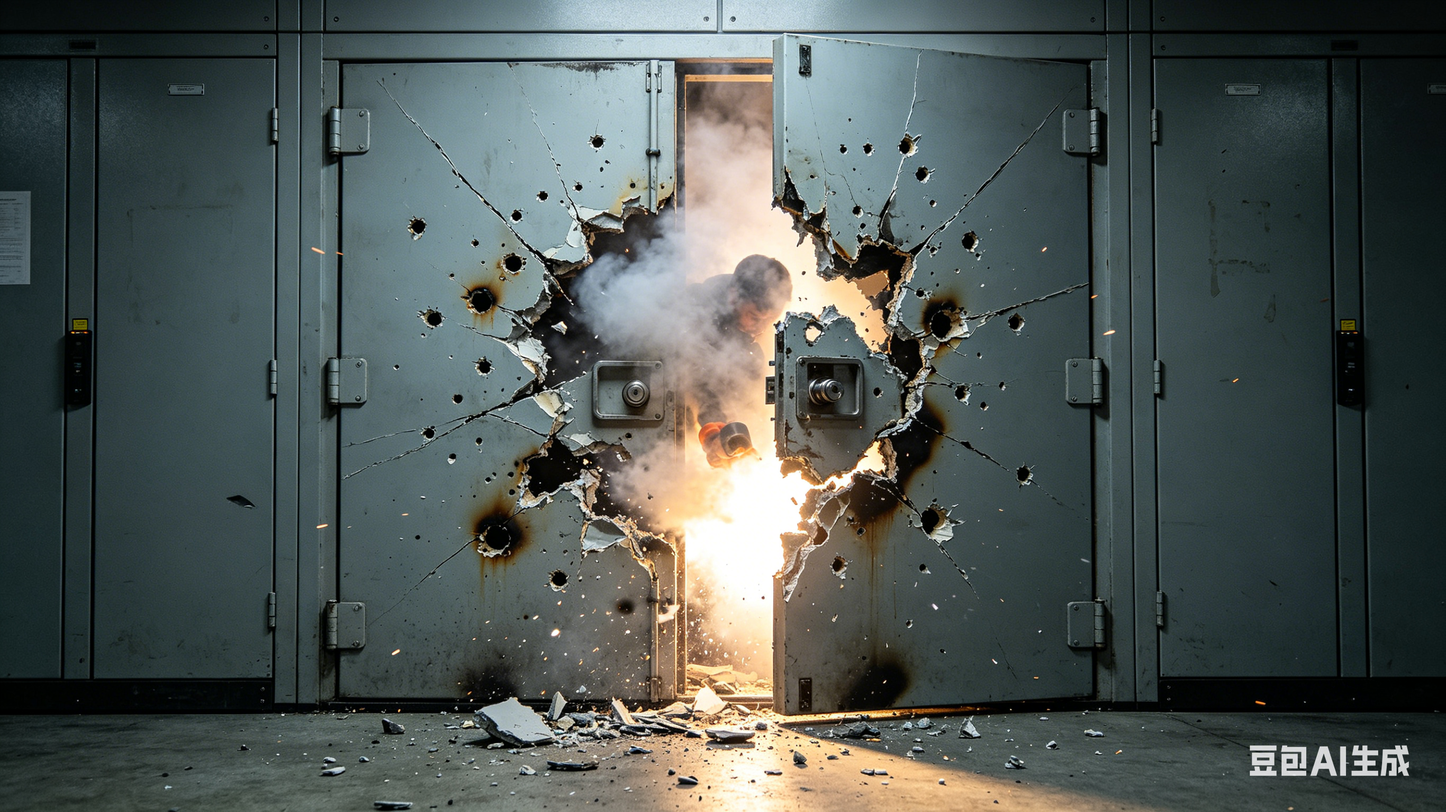BadLock: (750, 284, 937, 475), (543, 319, 680, 457)
